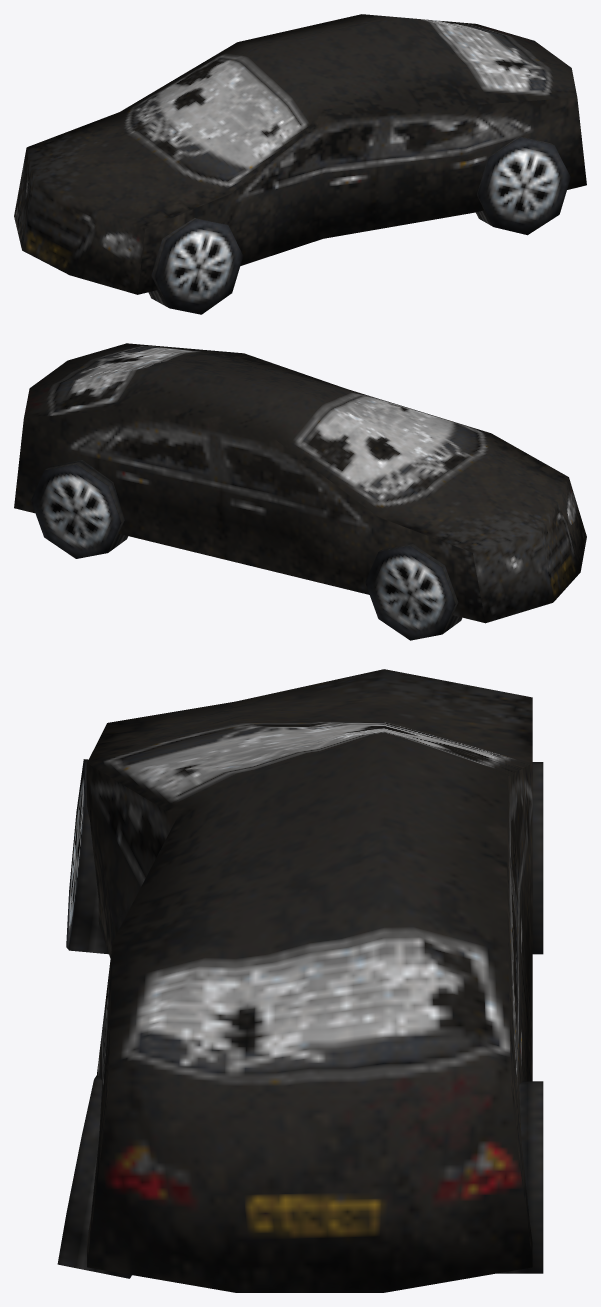
Rendered from car5.fbx.
The picture shows the model from 3 angles, top to bottom: view 1: azimuth 30°, elevation 25°; view 2: azimuth 150°, elevation 25°; view 3: azimuth 270°, elevation 25°; orthographic projection. The views are drawn at different scales.
Parts seen in each view (by area): view 1: car5; view 2: car5; view 3: car5.
Boxes of the visible parts, box(x1,y1,x2,y2) form: car5: box(14, 14, 586, 314); car5: box(14, 343, 586, 640); car5: box(57, 669, 543, 1292).
Bounding box in the file's own units: 467 × 190 × 154.
Materials: 1 (1 with a texture image).
